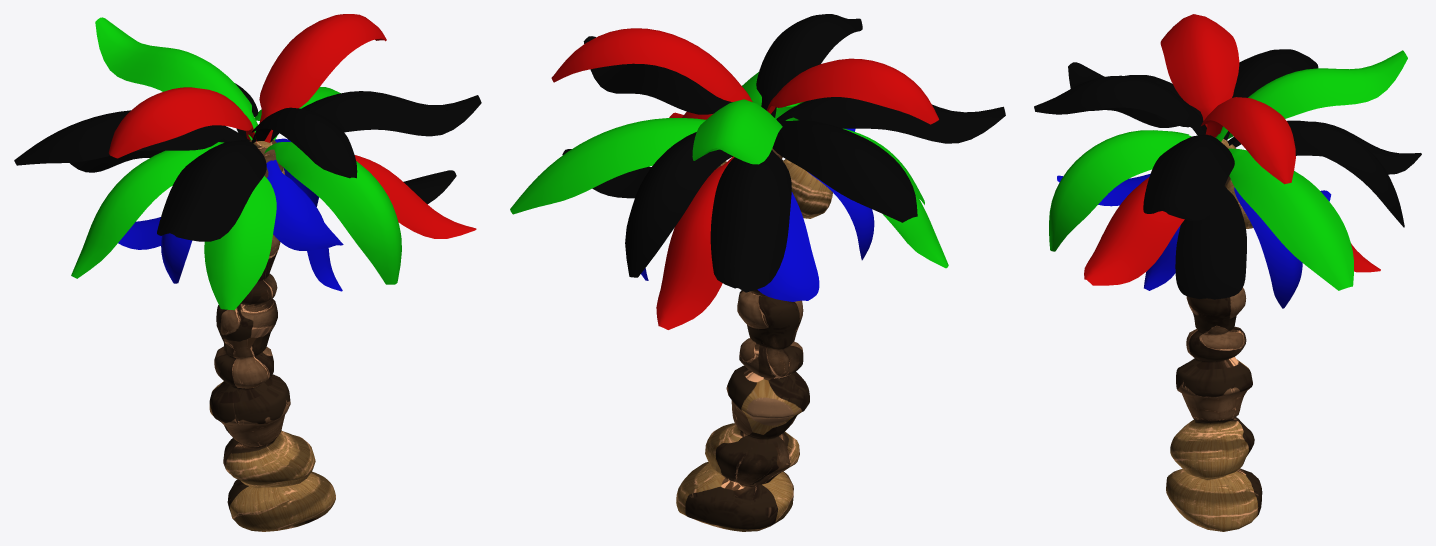
Rendered from Coconut_Tree_02.fbx.
The picture shows the model from 3 angles, left to right: view 1: azimuth 30°, elevation 25°; view 2: azimuth 150°, elevation 25°; view 3: azimuth 270°, elevation 25°; orthographic projection. The views are drawn at different scales.
Parts seen in each view (by area): view 1: Coconut_Leafs_02_LOD0, Coconut_Trunk_02_LOD0; view 2: Coconut_Leafs_02_LOD0, Coconut_Trunk_02_LOD0; view 3: Coconut_Leafs_02_LOD0, Coconut_Trunk_02_LOD0.
Boxes of the visible parts, x1=… form: Coconut_Leafs_02_LOD0: x1=14, y1=14, x2=481, y2=310; Coconut_Trunk_02_LOD0: x1=209, y1=140, x2=335, y2=531; Coconut_Leafs_02_LOD0: x1=510, y1=14, x2=1005, y2=329; Coconut_Trunk_02_LOD0: x1=676, y1=148, x2=832, y2=531; Coconut_Leafs_02_LOD0: x1=1034, y1=14, x2=1421, y2=308; Coconut_Trunk_02_LOD0: x1=1166, y1=138, x2=1262, y2=531.
Size of what is drawn, in the model's own units: 3.82 by 4.38 by 3.45.
